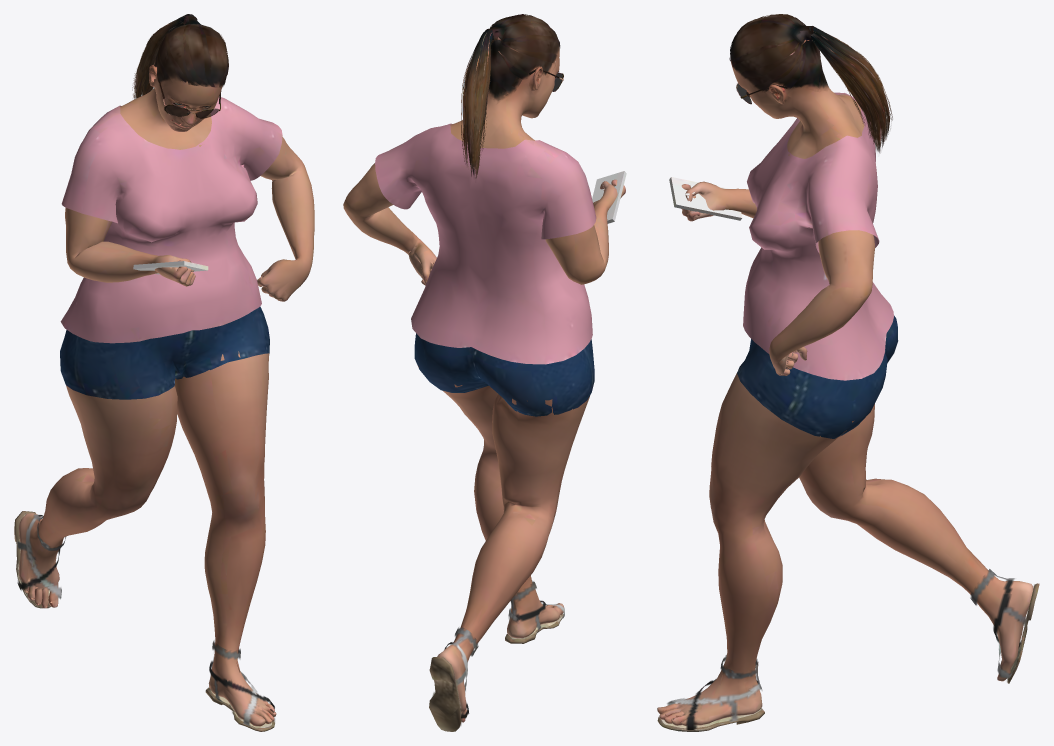
3 renders of one model, left to right at view 1: azimuth 30°, elevation 25°; view 2: azimuth 150°, elevation 25°; view 3: azimuth 270°, elevation 25°, orthographic. The views are drawn at different scales.
Visible parts, largest first — view 1: p03357; view 2: p03357; view 3: p03357.
Boxes of the visible parts, <box> form: p03357: <box>14,14,314,731</box>; p03357: <box>343,14,626,731</box>; p03357: <box>657,14,1039,731</box>.
Size of the model in its own units: 0.5929 by 1.51 by 0.753.
1 material, 1 textured.
